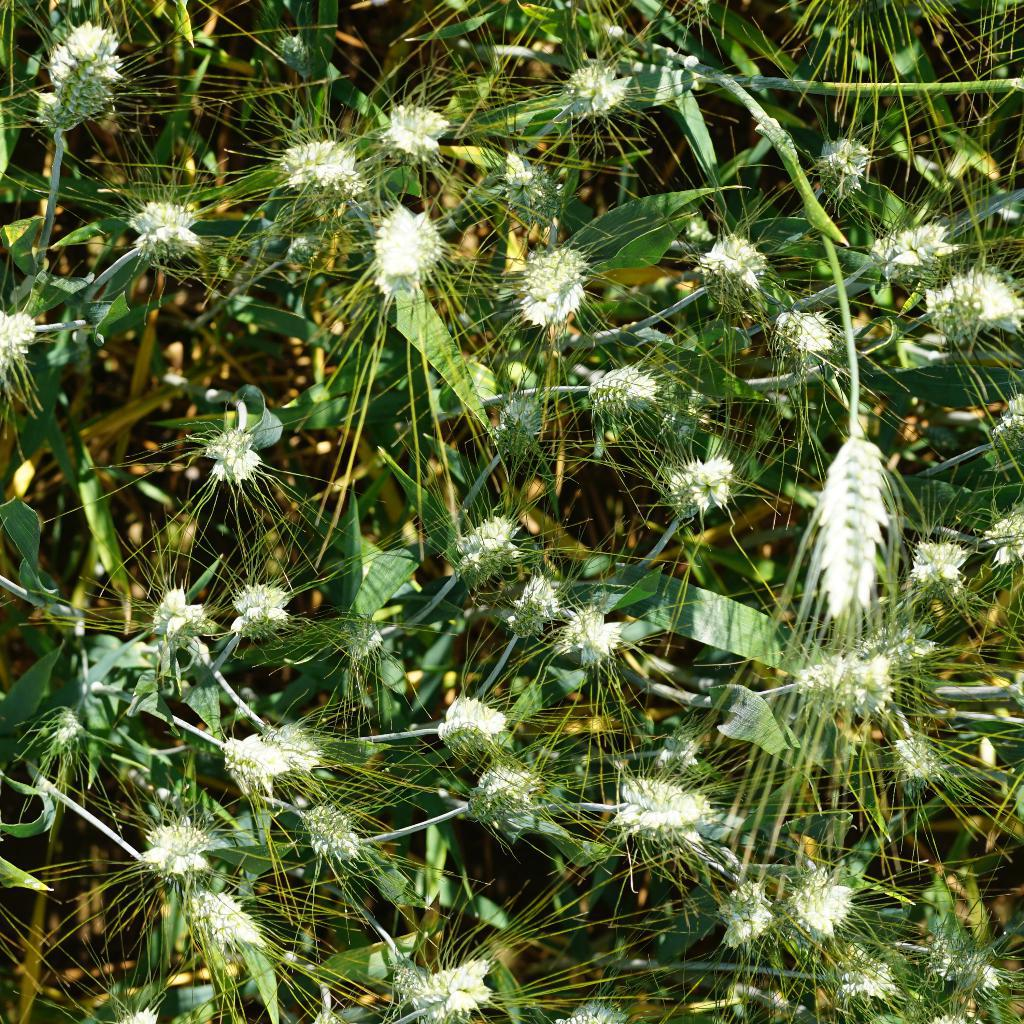0-0: (805, 403, 893, 636), (34, 19, 127, 144), (347, 198, 456, 295), (608, 770, 721, 854), (689, 230, 787, 317), (778, 847, 862, 946), (917, 270, 1024, 347), (456, 759, 552, 844), (504, 240, 601, 320), (219, 712, 306, 799), (860, 210, 955, 289), (789, 642, 901, 709), (127, 802, 221, 881), (925, 929, 1015, 1011), (257, 124, 367, 190), (803, 122, 880, 211), (490, 141, 577, 219), (415, 949, 503, 1023), (376, 937, 449, 1023), (182, 888, 277, 953), (555, 54, 635, 131), (486, 367, 549, 464), (716, 866, 787, 952), (127, 187, 202, 268), (764, 300, 845, 375), (666, 445, 742, 524), (366, 92, 448, 165), (324, 605, 406, 677), (141, 575, 208, 656), (189, 423, 271, 489), (296, 799, 369, 873), (225, 572, 295, 647), (449, 511, 518, 583), (907, 512, 964, 597), (434, 688, 515, 746), (840, 949, 904, 1020), (583, 358, 657, 417), (553, 594, 617, 662), (261, 702, 324, 768), (32, 690, 93, 758), (889, 720, 952, 785), (504, 559, 559, 632), (643, 725, 714, 780), (0, 290, 38, 382), (278, 223, 345, 269), (983, 499, 1024, 565), (265, 21, 317, 73)
